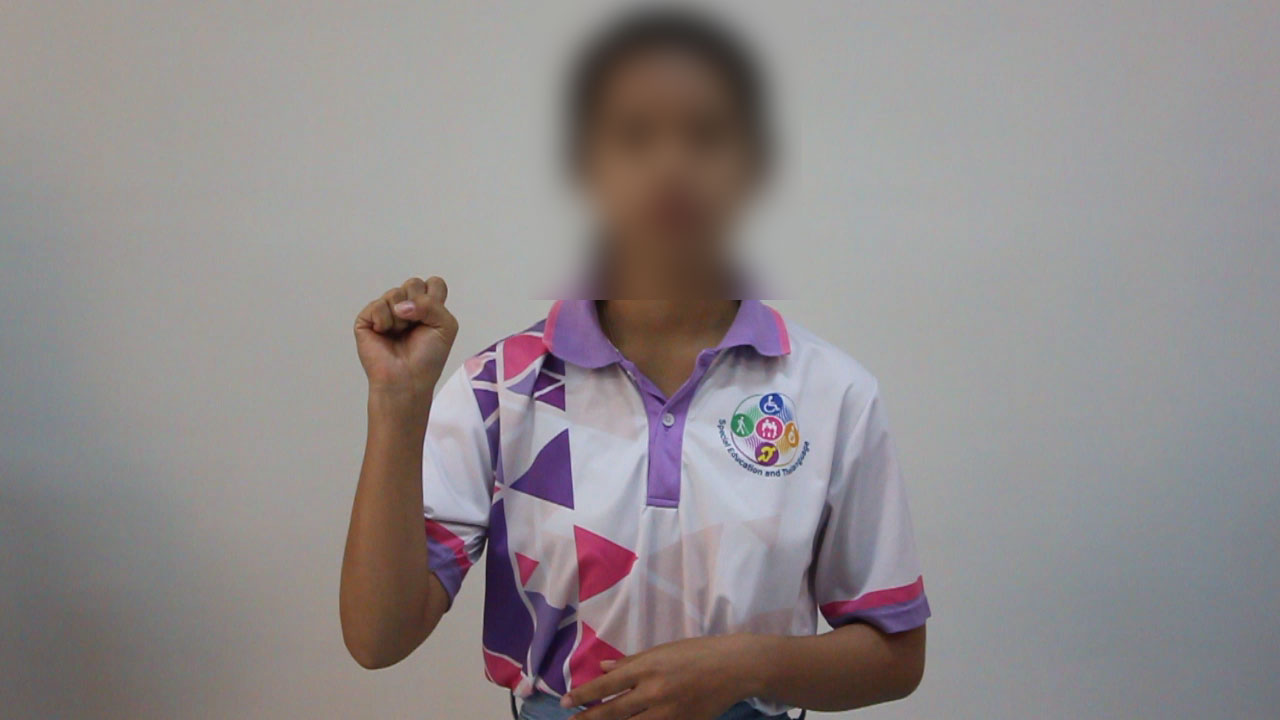sor: (343, 259, 470, 408)
